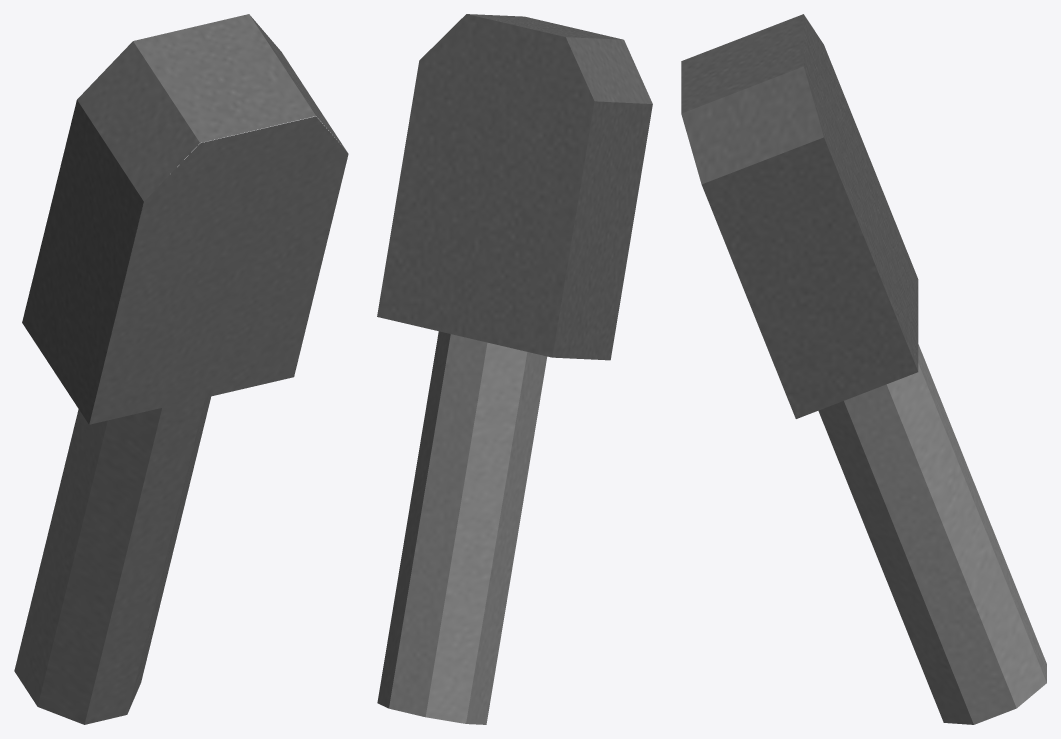
The model's file is zxdzb001-geode.glb.
The picture shows the model from 3 angles, left to right: view 1: azimuth 30°, elevation 25°; view 2: azimuth 150°, elevation 25°; view 3: azimuth 270°, elevation 25°; orthographic projection. The views are drawn at different scales.
Visible parts, largest first — view 1: Node; view 2: Node; view 3: Node.
Part boxes in pixels (x1,y1,x2,y2): Node: (14, 14, 348, 724); Node: (377, 14, 652, 724); Node: (681, 14, 1046, 724).
Size of the model in its own units: 0.1272 by 0.4368 by 0.2139.
Materials: 2 (2 with a texture image).
